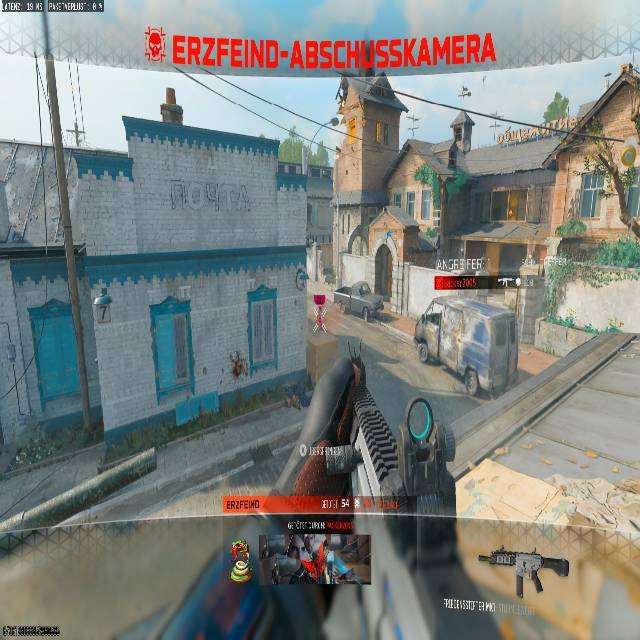player: (446, 111, 475, 169), (312, 305, 324, 334), (296, 266, 307, 291)
